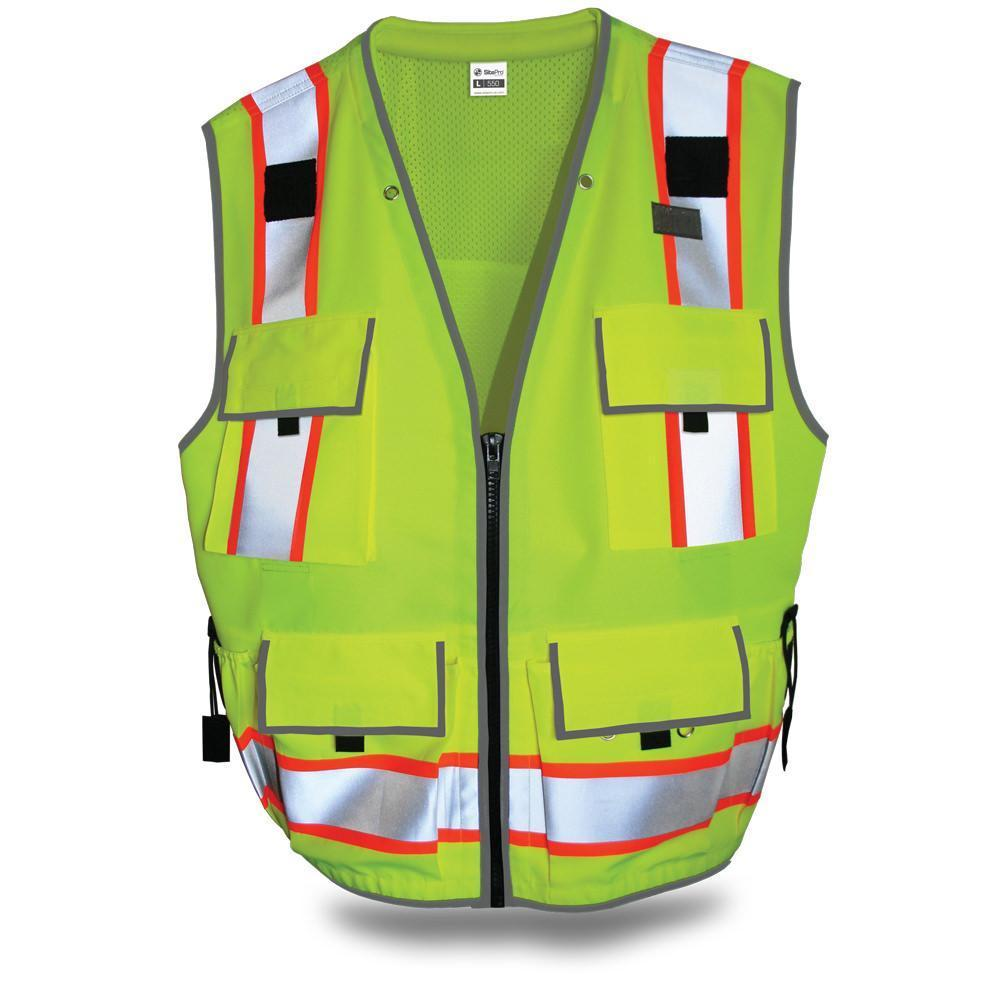vest: (168, 3, 835, 917)
